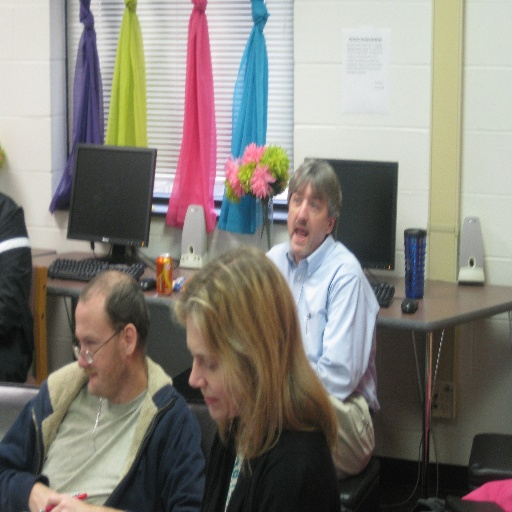hand: (44, 491, 88, 511)
